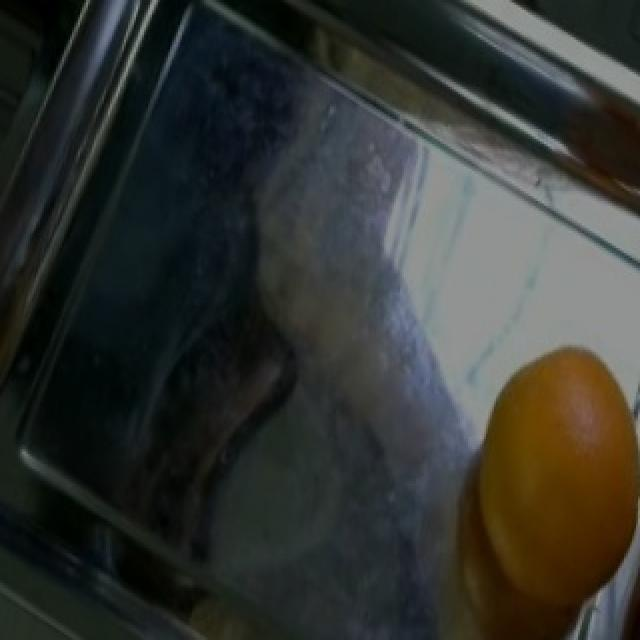Fruit: (444, 325, 638, 640)
